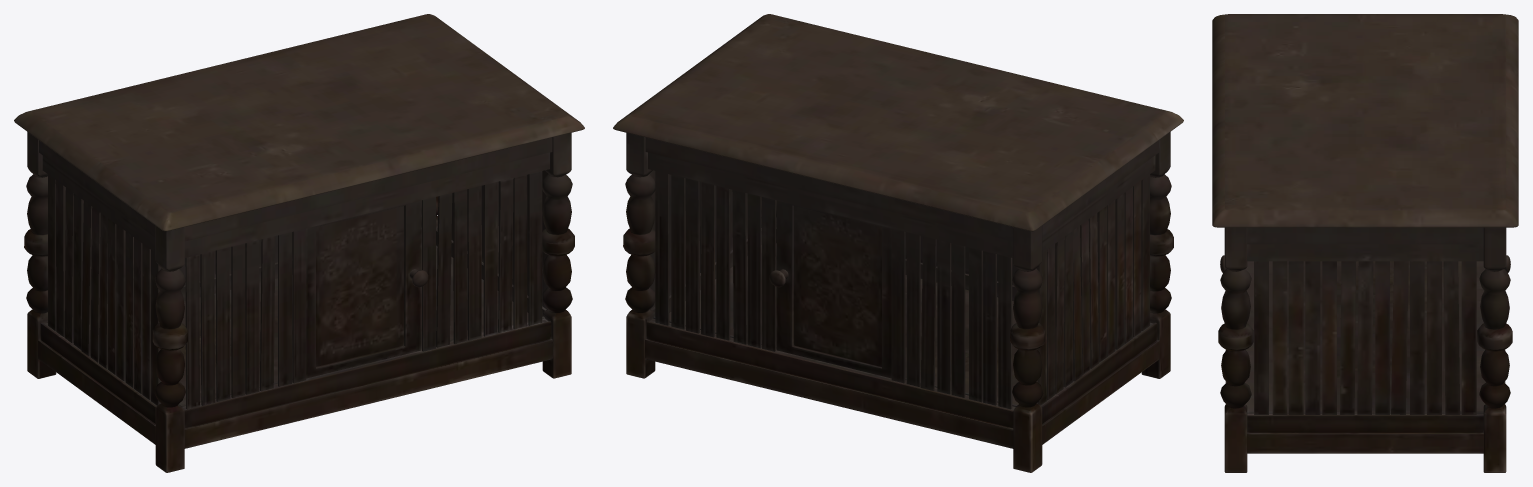
File: gallinera_table.glb
The picture shows the model from 3 angles, left to right: view 1: azimuth 30°, elevation 25°; view 2: azimuth 150°, elevation 25°; view 3: azimuth 270°, elevation 25°; orthographic projection.
Parts seen in each view (by area): view 1: gallinera_table; view 2: gallinera_table; view 3: gallinera_table.
Boxes of the visible parts, x1,y1,x2,y2 form: gallinera_table: (14,14,584,472); gallinera_table: (613,14,1183,472); gallinera_table: (1212,14,1518,472).
Size of the model in its own units: 0.8301 by 0.4878 by 0.5183.
1 material, 1 textured.
